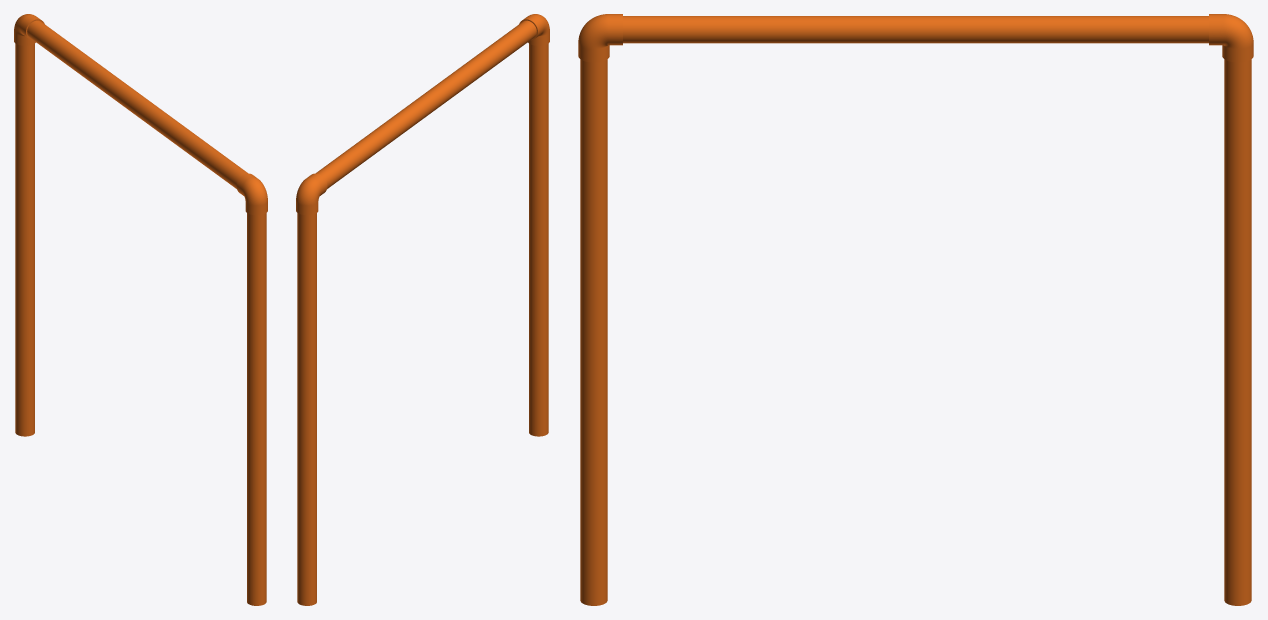
File: prequal_gate.dae
3 views of the same model, side by side, from view 1: azimuth 30°, elevation 25°; view 2: azimuth 150°, elevation 25°; view 3: azimuth 270°, elevation 25° (orthographic). The views are drawn at different scales.
Parts seen in each view (by area): view 1: Prequalification-gate; view 2: Prequalification-gate; view 3: Prequalification-gate.
Boxes of the visible parts, x1=… form: Prequalification-gate: x1=14, y1=14, x2=267, y2=605; Prequalification-gate: x1=296, y1=14, x2=549, y2=605; Prequalification-gate: x1=578, y1=14, x2=1253, y2=605.
Bounding box in the file's own units: 0.1016 × 2.19 × 2.1.
